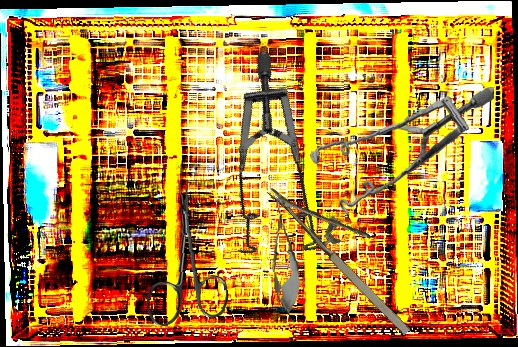Iris Scissors: (140, 178, 230, 327)
Micro Scissor: (264, 197, 304, 317)
Needle Holder: (266, 160, 436, 340)
Speculum: (171, 48, 392, 286), (306, 74, 495, 225)
